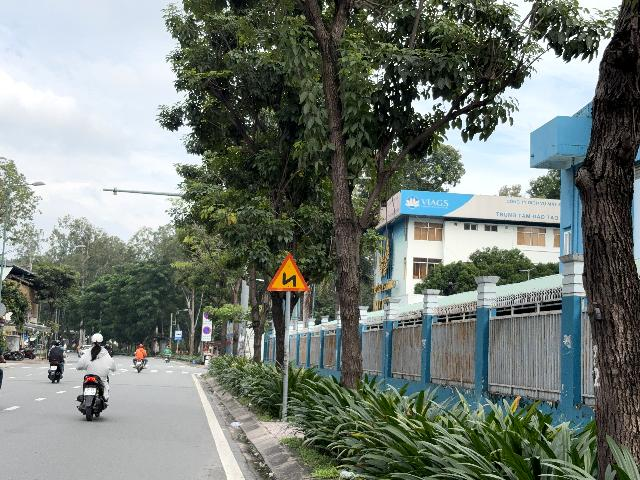nhieu-cho-ngoat-nguy-hiem-lien-tiep: (267, 254, 310, 292)
